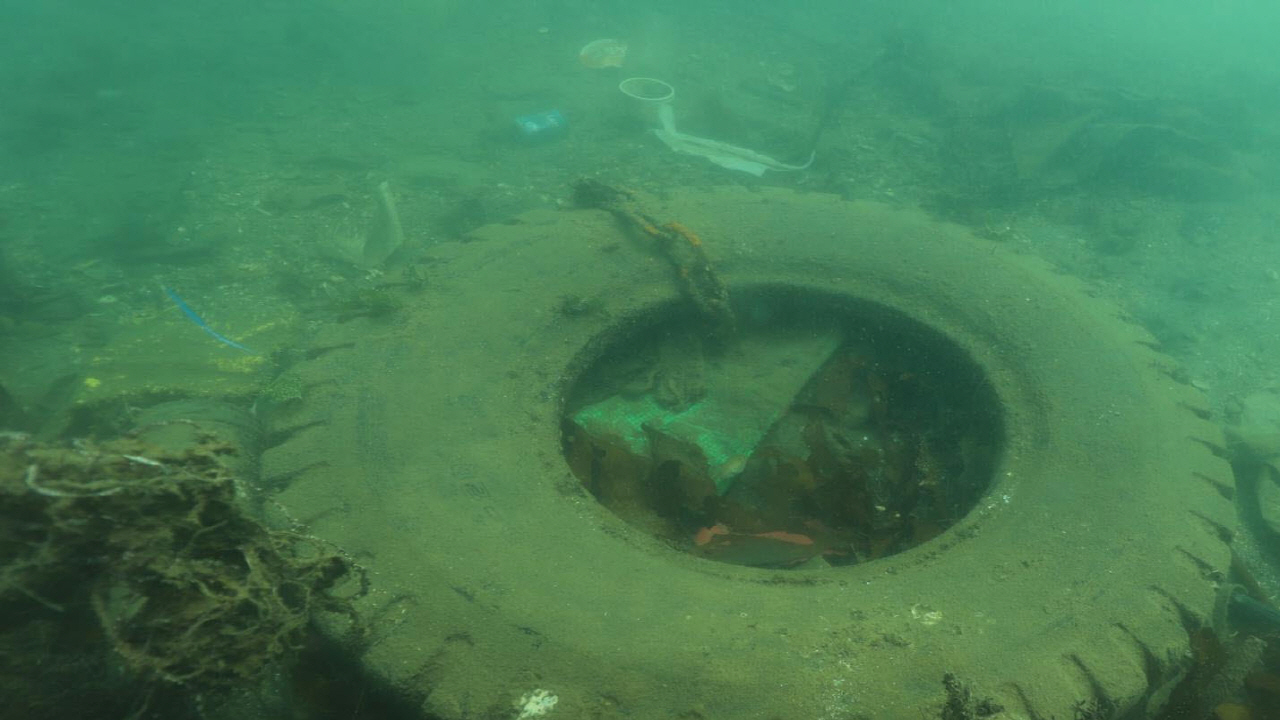tire: (261, 181, 1236, 720)
